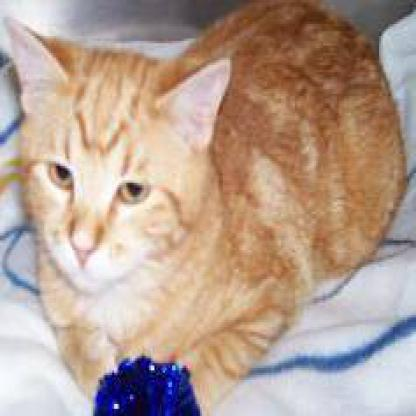cat: (6, 24, 259, 316)
